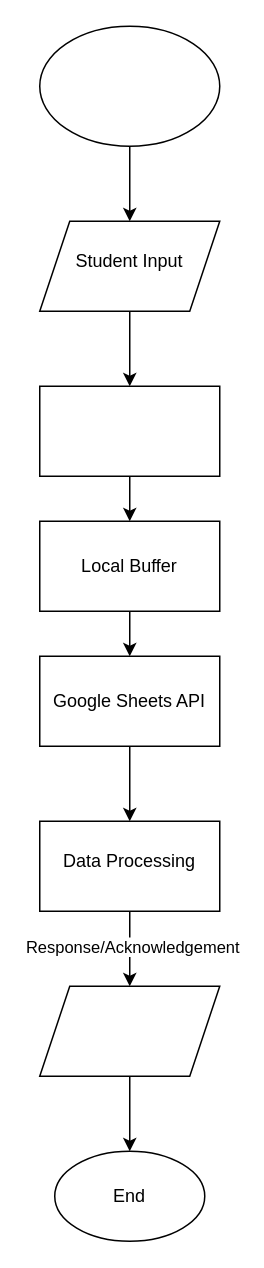
This 264x1268 diagram has some shape labels left out. Each missing label, with the centre of its shape:
"ESP 32" belongs at (x=129, y=430).
"LCD Display" belongs at (x=129, y=1030).
"Start" belongs at (x=129, y=85).
